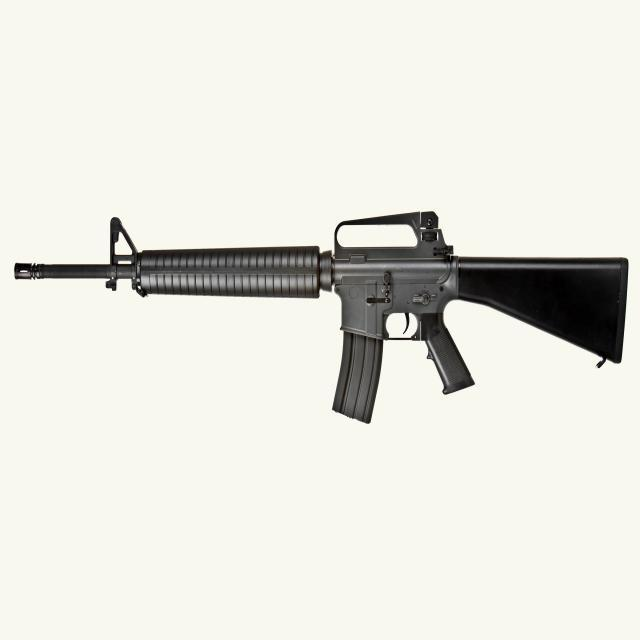rifle: (9, 204, 630, 422)
